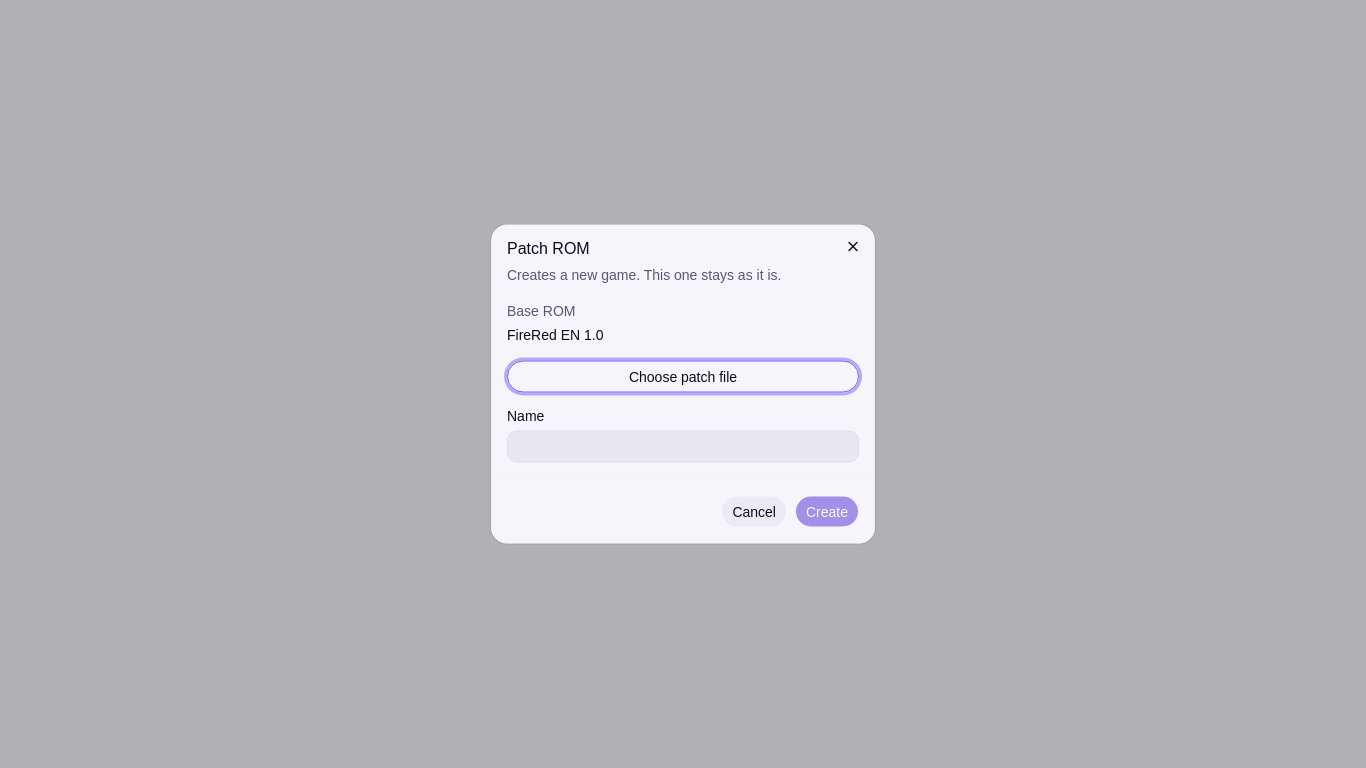
it: says an xdelta patch without checksums can't be checked
The width and height of the screenshot is (1366, 768).
Click the button "Choose patch file". click: (683, 376)
box: 507,360 -> 859,392
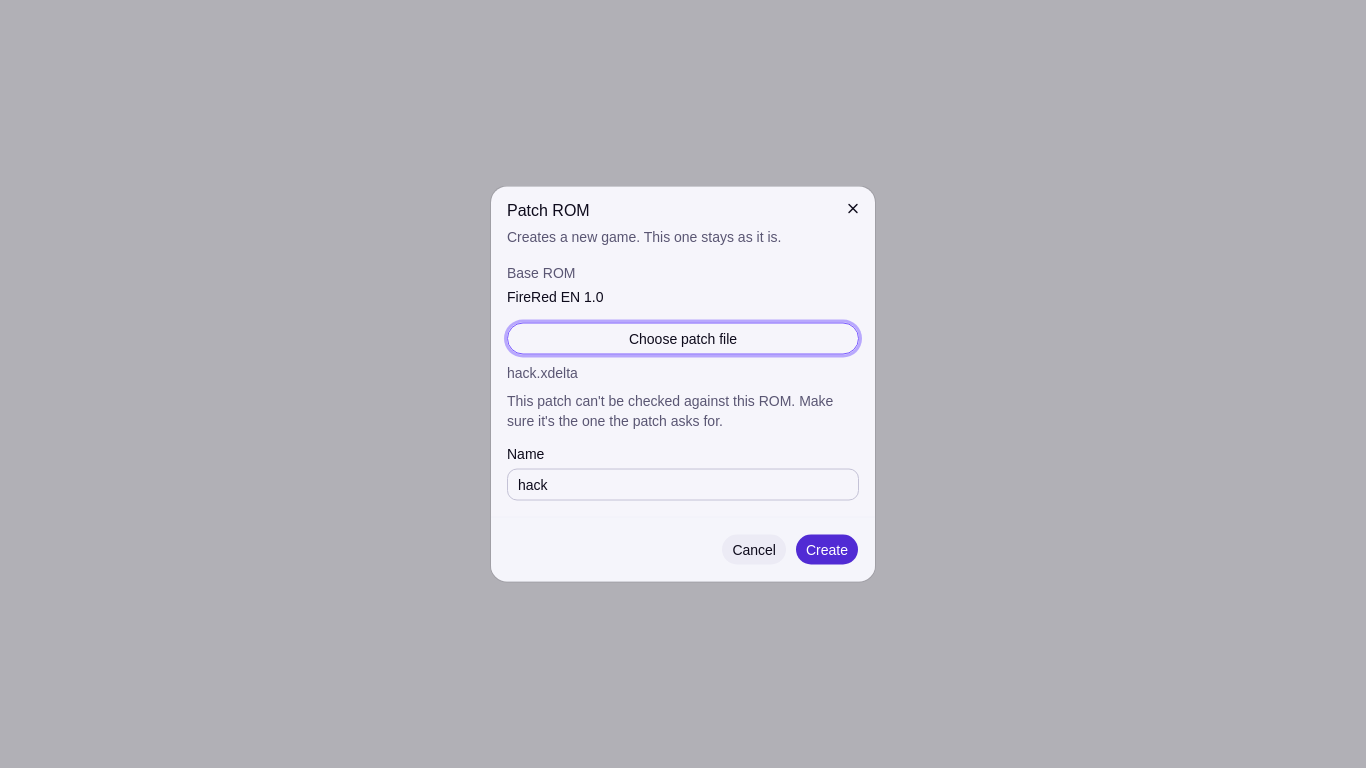
Check: the text "can't be checked" is shown, box 507,392 -> 833,428
